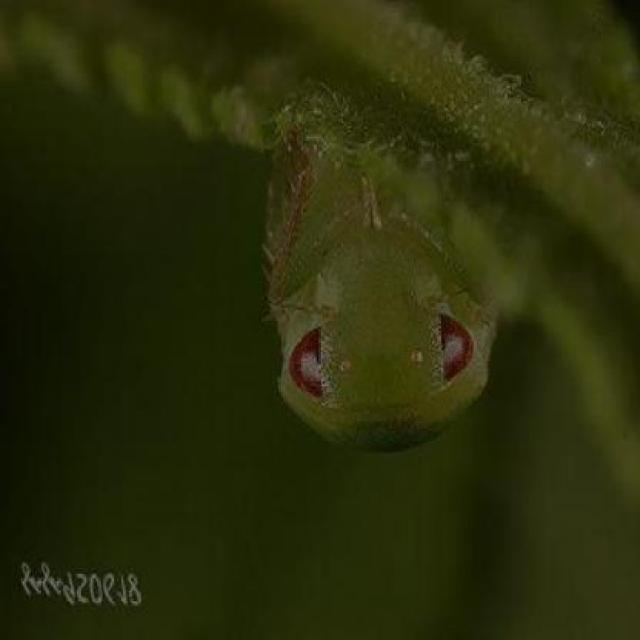green-leafhopper: (258, 147, 516, 445)
